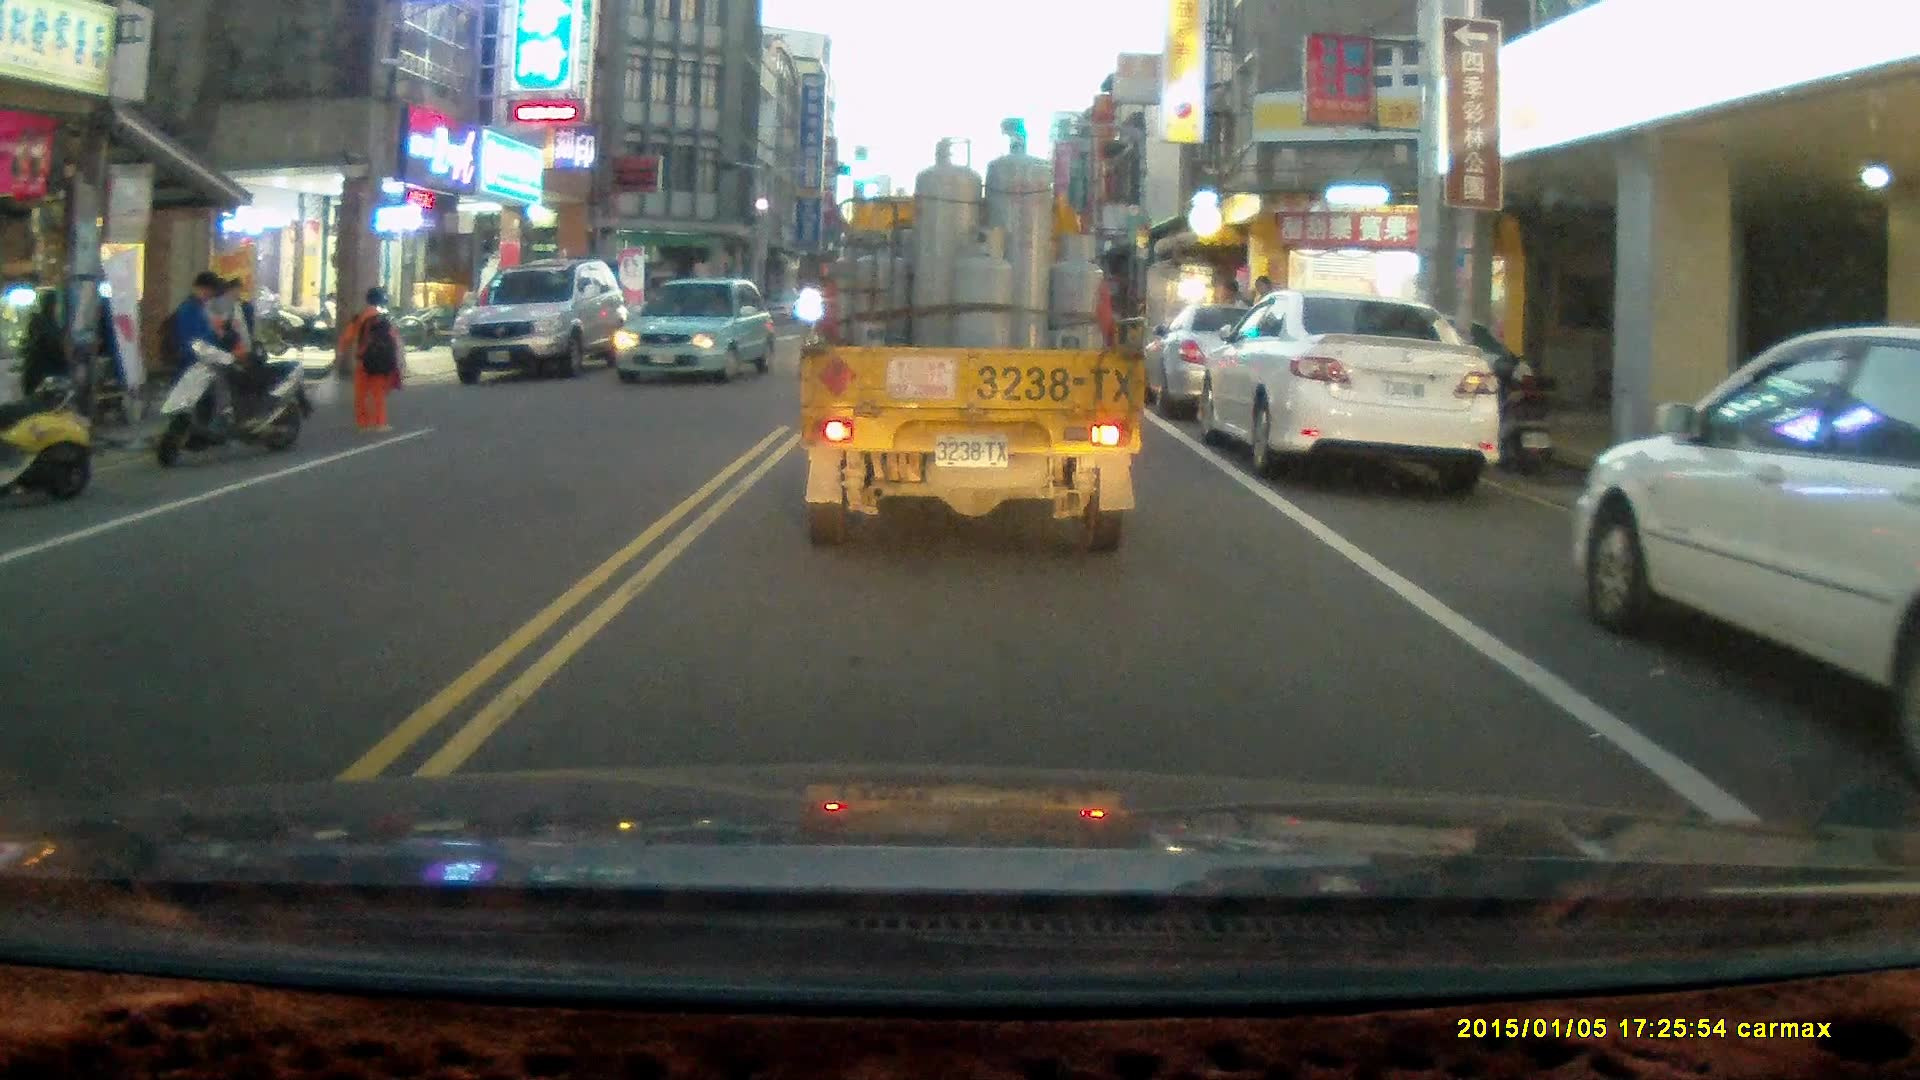pedestrian: (153, 271, 229, 448), (339, 284, 406, 431), (17, 287, 67, 446)
vehicle: (797, 129, 1152, 558), (1578, 323, 1920, 739), (1200, 287, 1501, 488), (1143, 300, 1365, 425), (456, 260, 628, 389), (611, 278, 780, 388)
